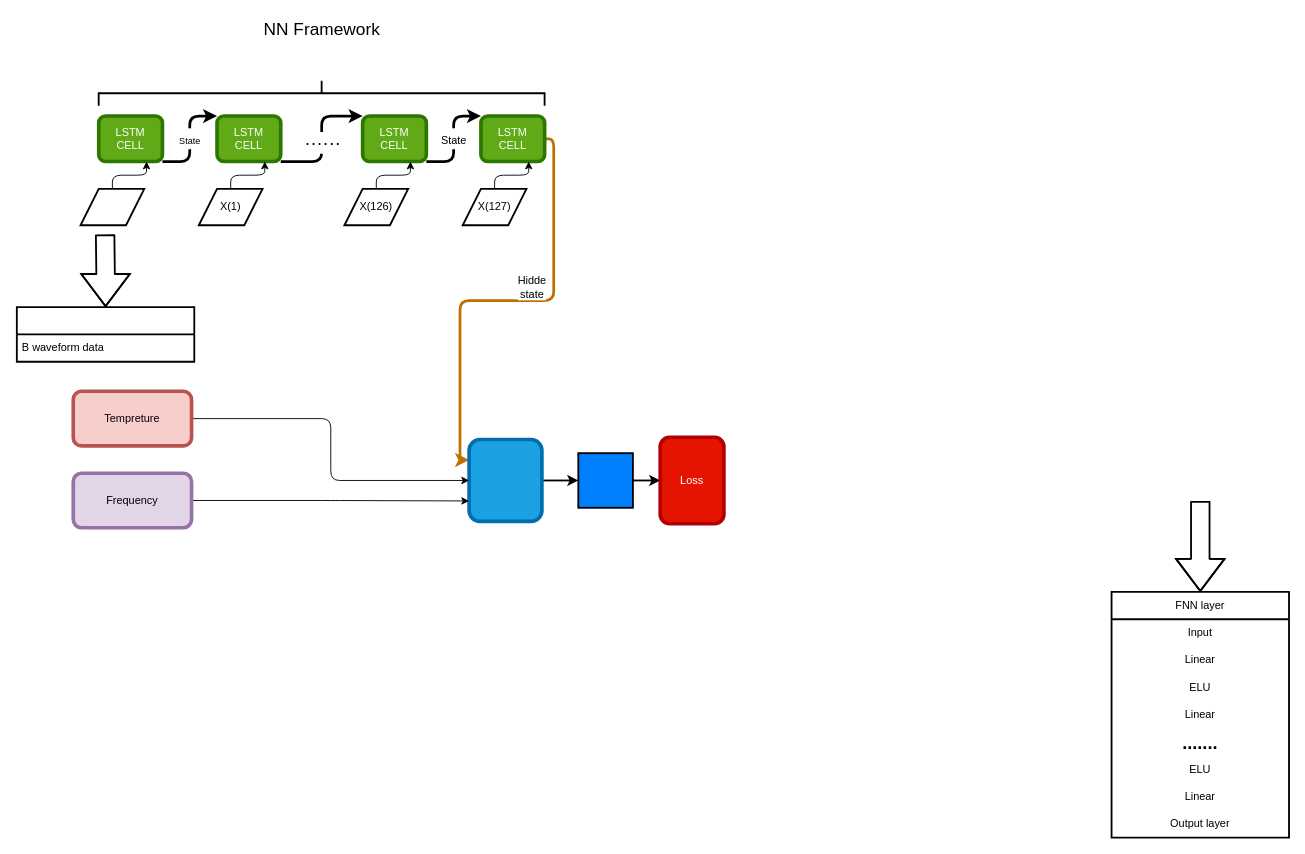
Image size: 1305x854. Some labels were removed from this diagram. The box of each missing label's shape, as (x1, y1, x2, y2) in pixels:
128 waveform data points: (97, 79, 545, 106)
FNN: (467, 437, 543, 523)
Un STD: (577, 452, 633, 508)
X (after standardization): (15, 306, 195, 362)
X(0): (79, 187, 145, 226)
